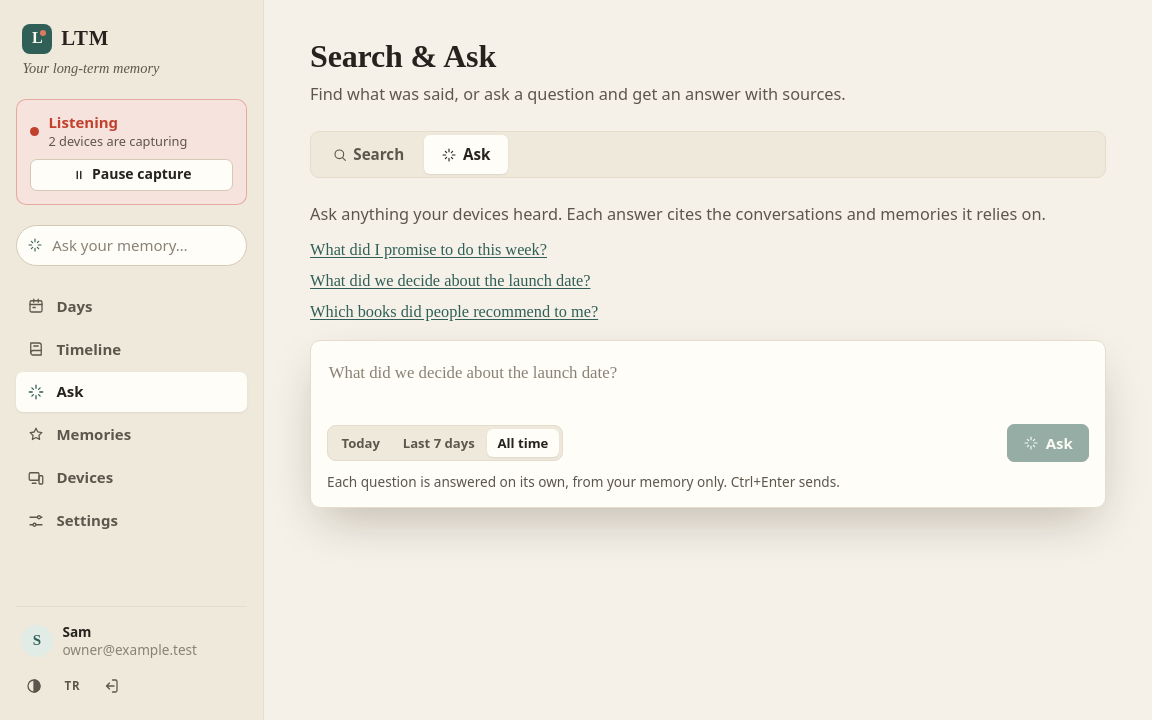
Test: ask thread › stacks questions and answers with per-answer sources and a scope
Click the radio button labelled "Last 7 days". click: (439, 442)
box: left=403, top=434, right=475, bottom=452
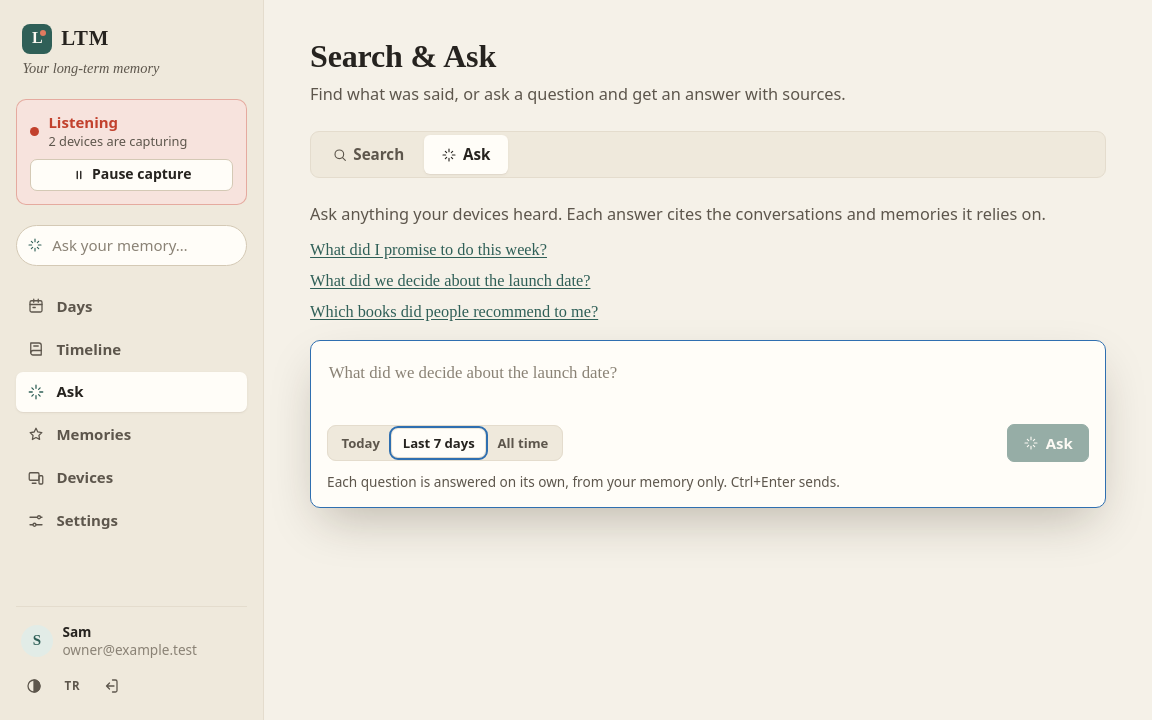
Type "When is the launch?" into the text box named "Your question". click: (708, 385)
box: left=327, top=356, right=1089, bottom=414
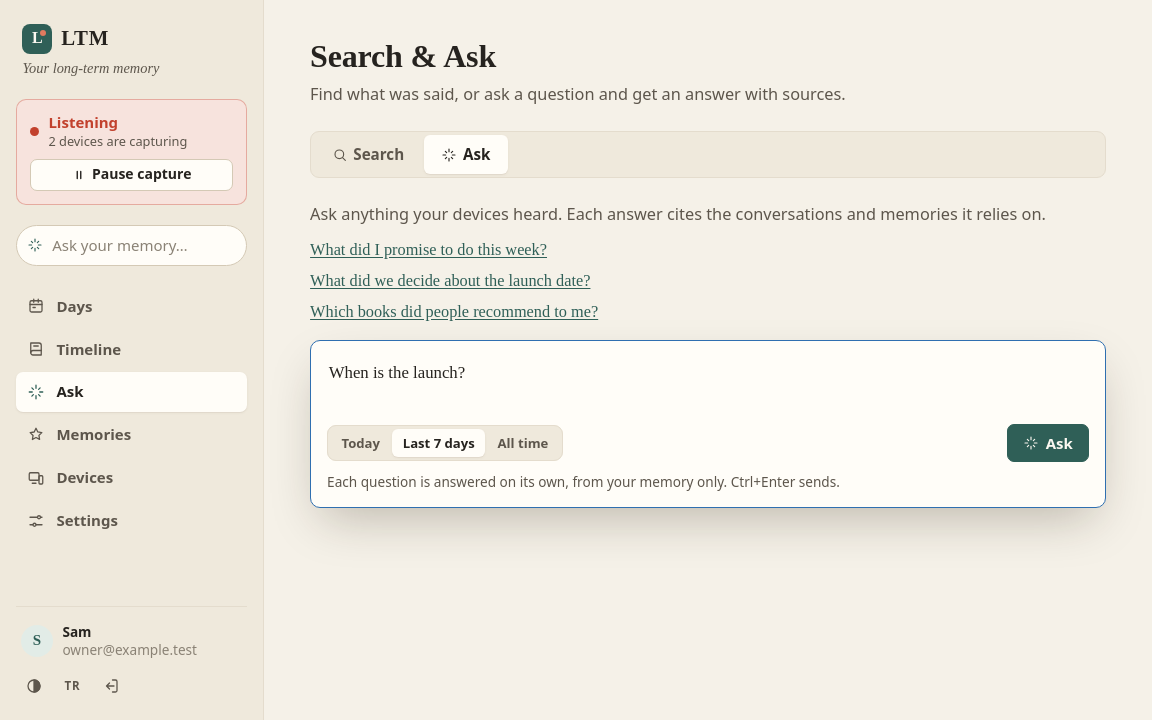
Click the button "Ask". click: (1048, 443)
box: left=1007, top=424, right=1089, bottom=462
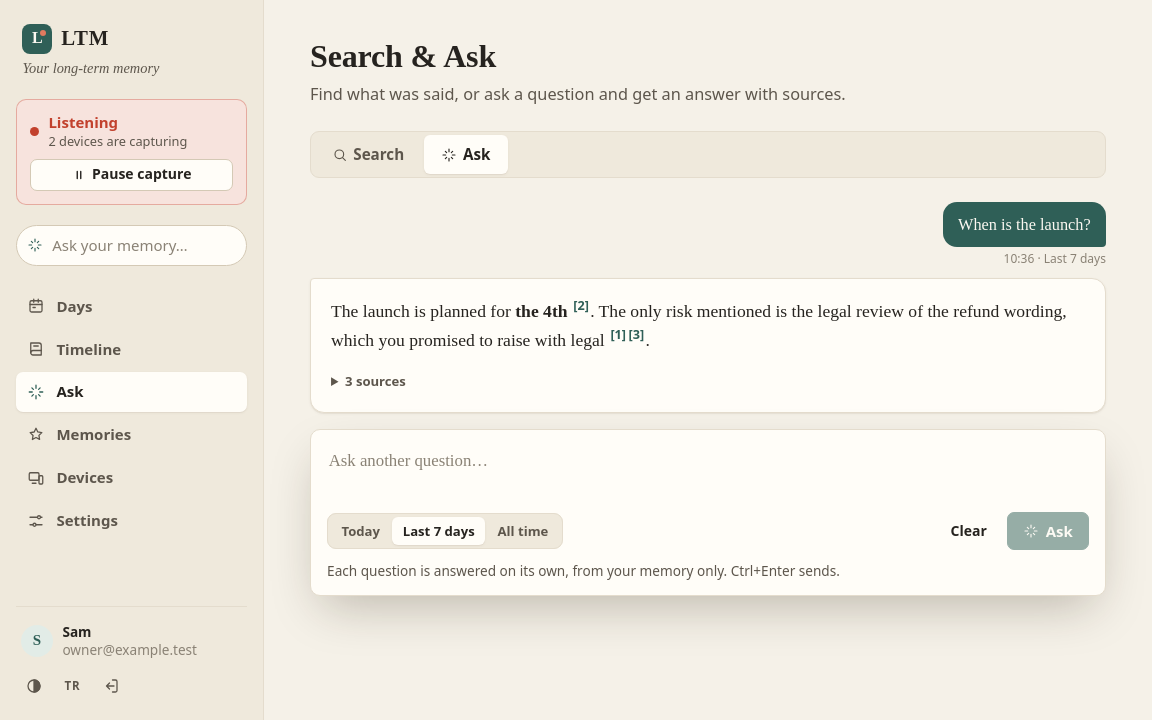
Expected: the text "planned for" is shown, left=331, top=301, right=515, bottom=321
Expected: the text "When is the launch?" is shown, left=943, top=202, right=1106, bottom=247
Type "And who owns the table?" into the text box named "Your question". click: (708, 473)
box: left=327, top=444, right=1089, bottom=502
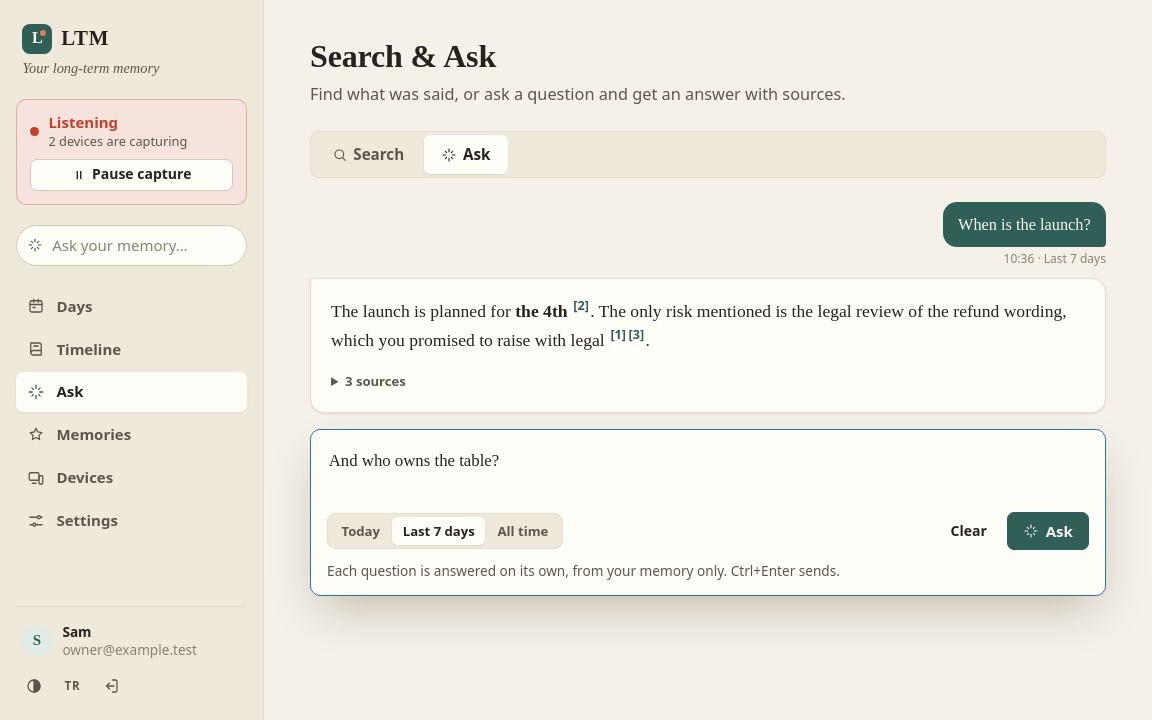
Click the button "Ask". click: (1048, 531)
box: left=1007, top=512, right=1089, bottom=550
(page scrolled)
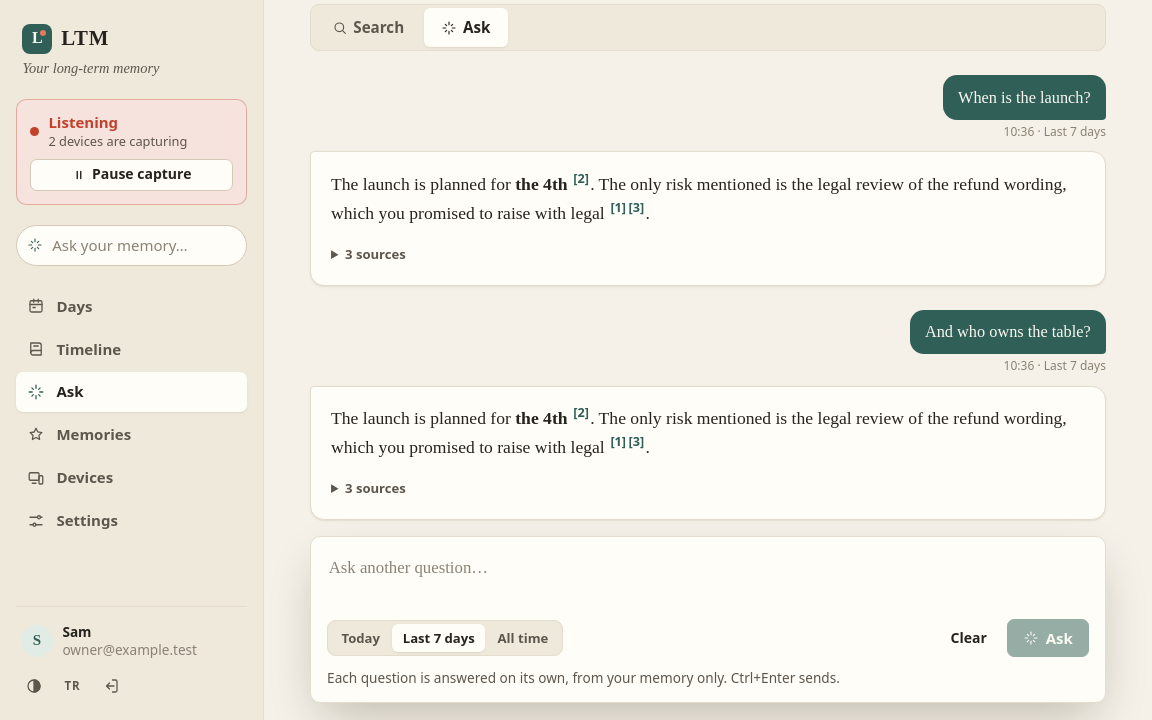
Expected: the heading "3 sources" below "When is the launch?" is shown, left=345, top=245, right=406, bottom=263
Expected: the number of list items is 2, left=310, top=75, right=1106, bottom=286; left=310, top=310, right=1106, bottom=520
Expected: the list item that starts with "And who owns the table?" is shown, left=925, top=322, right=1091, bottom=341
